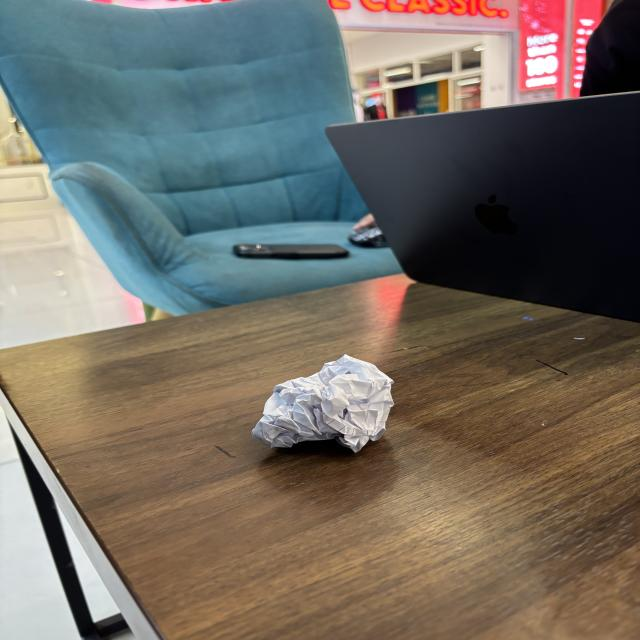crumpled_paper: (248, 345, 404, 460)
